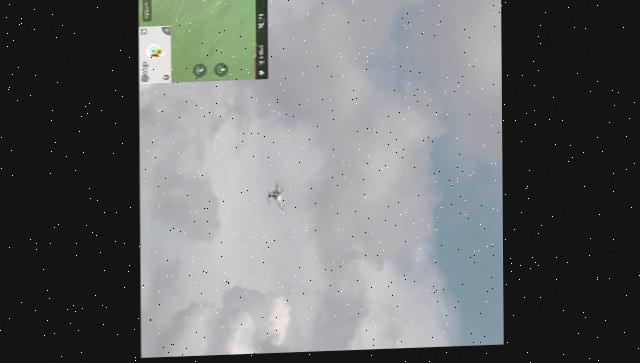drone: (265, 182, 286, 211)
